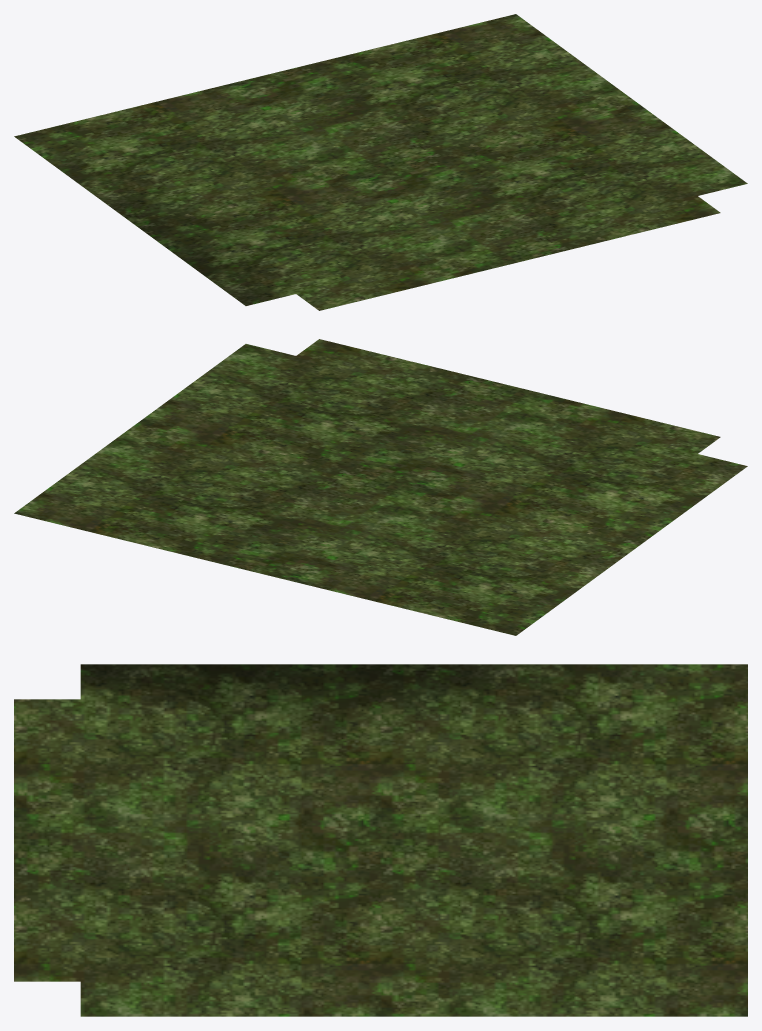
Rendered from OVERHILL_A_01_OBJECT71.fbx.
The picture shows the model from 3 angles, top to bottom: view 1: azimuth 30°, elevation 25°; view 2: azimuth 150°, elevation 25°; view 3: azimuth 270°, elevation 25°; orthographic projection. The views are drawn at different scales.
Visible parts, largest first — view 1: OVERHILL_A_01_OBJECT71; view 2: OVERHILL_A_01_OBJECT71; view 3: OVERHILL_A_01_OBJECT71.
Part boxes in pixels (left/top/right/bottom): OVERHILL_A_01_OBJECT71: left=14, top=14, right=747, bottom=310; OVERHILL_A_01_OBJECT71: left=14, top=339, right=747, bottom=635; OVERHILL_A_01_OBJECT71: left=14, top=664, right=747, bottom=1016.
Size of the model in its own units: 50000 by 0.036 by 44000.
Materials: 1 (1 with a texture image).
